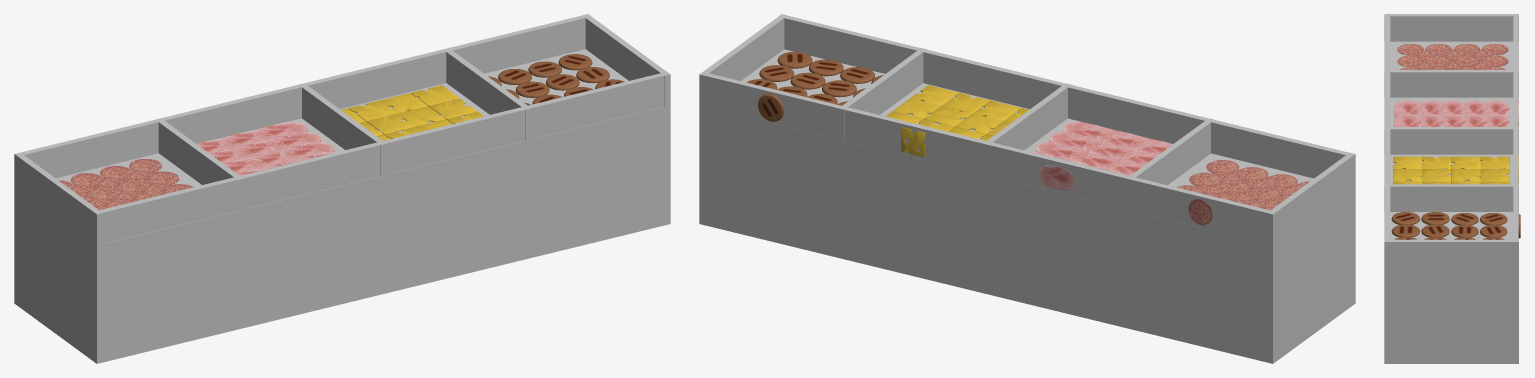
File: bancone1.fbx
3 renders of one model, left to right at view 1: azimuth 30°, elevation 25°; view 2: azimuth 150°, elevation 25°; view 3: azimuth 270°, elevation 25°, orthographic. The views are drawn at different scales.
Visible parts, largest first — view 1: Cube, prosciutto.012|Prosciutto_L_prosciutto.blend|Dupli|, prosciutto.010|Prosciutto_L_prosciutto.blend|Dupli|, prosciutto.006|Prosciutto_L_prosciutto.blend|Dupli|, prosciutto.013|Prosciutto_L_prosciutto.blend|Dupli|, prosciutto.009|Prosciutto_L_prosciutto.blend|Dupli|, formaggio.011|Cube_L_FORMAGGIO.blend|Dupli|, formaggio.009|Cube_L_FORMAGGIO.blend|Dupli|, formaggio.012|Cube_L_FORMAGGIO.blend|Dupli|, formaggio.010|Cube_L_FORMAGGIO.blend|Dupli|, formaggio.014|Cube_L_FORMAGGIO.blend|Dupli|, formaggio.013|Cube_L_FORMAGGIO.blend|Dupli| (+1 smaller); view 2: Cube, prosciutto.015|Prosciutto_L_prosciutto.blend|Dupli|, prosciutto.001|Prosciutto_L_prosciutto.blend|Dupli|, prosciutto.004|Prosciutto_L_prosciutto.blend|Dupli|, prosciutto.007|Prosciutto_L_prosciutto.blend|Dupli|, prosciutto|Prosciutto_L_prosciutto.blend|Dupli|, prosciutto.003|Prosciutto_L_prosciutto.blend|Dupli|, prosciutto.006|Prosciutto_L_prosciutto.blend|Dupli|, carne.016|Circle_L_CARNE.blend|Dupli|, formaggio.004|Cube_L_FORMAGGIO.blend|Dupli|, formaggio.006|Cube_L_FORMAGGIO.blend|Dupli|, formaggio.003|Cube_L_FORMAGGIO.blend|Dupli| (+4 smaller); view 3: Cube, prosciutto.002|Prosciutto_L_prosciutto.blend|Dupli|, prosciutto.008|Prosciutto_L_prosciutto.blend|Dupli|, prosciutto.014|Prosciutto_L_prosciutto.blend|Dupli|, prosciutto.011|Prosciutto_L_prosciutto.blend|Dupli|, prosciutto.005|Prosciutto_L_prosciutto.blend|Dupli|, formaggio.008|Cube_L_FORMAGGIO.blend|Dupli|, formaggio.007|Cube_L_FORMAGGIO.blend|Dupli|, formaggio.015|Cube_L_FORMAGGIO.blend|Dupli|, formaggio|Cube_L_FORMAGGIO.blend|Dupli|, formaggio.006|Cube_L_FORMAGGIO.blend|Dupli|, formaggio.014|Cube_L_FORMAGGIO.blend|Dupli| (+29 smaller).
Boxes of the visible parts, left/top/right/bottom form: Cube: left=14, top=14, right=670, bottom=363; prosciutto.012|Prosciutto_L_prosciutto.blend|Dupli|: left=252, top=122, right=307, bottom=140; prosciutto.010|Prosciutto_L_prosciutto.blend|Dupli|: left=232, top=140, right=286, bottom=159; prosciutto.006|Prosciutto_L_prosciutto.blend|Dupli|: left=279, top=142, right=334, bottom=160; prosciutto.013|Prosciutto_L_prosciutto.blend|Dupli|: left=219, top=130, right=273, bottom=149; prosciutto.009|Prosciutto_L_prosciutto.blend|Dupli|: left=266, top=132, right=320, bottom=150; formaggio.011|Cube_L_FORMAGGIO.blend|Dupli|: left=429, top=98, right=477, bottom=119; formaggio.009|Cube_L_FORMAGGIO.blend|Dupli|: left=366, top=113, right=414, bottom=134; formaggio.012|Cube_L_FORMAGGIO.blend|Dupli|: left=411, top=85, right=459, bottom=106; formaggio.010|Cube_L_FORMAGGIO.blend|Dupli|: left=397, top=106, right=445, bottom=126; formaggio.014|Cube_L_FORMAGGIO.blend|Dupli|: left=348, top=100, right=396, bottom=121; formaggio.013|Cube_L_FORMAGGIO.blend|Dupli|: left=380, top=93, right=427, bottom=113; Cube: left=699, top=14, right=1355, bottom=363; prosciutto.015|Prosciutto_L_prosciutto.blend|Dupli|: left=1039, top=165, right=1075, bottom=190; prosciutto.001|Prosciutto_L_prosciutto.blend|Dupli|: left=1096, top=130, right=1150, bottom=149; prosciutto.004|Prosciutto_L_prosciutto.blend|Dupli|: left=1083, top=140, right=1137, bottom=159; prosciutto.007|Prosciutto_L_prosciutto.blend|Dupli|: left=1070, top=150, right=1123, bottom=168; prosciutto|Prosciutto_L_prosciutto.blend|Dupli|: left=1063, top=122, right=1117, bottom=140; prosciutto.003|Prosciutto_L_prosciutto.blend|Dupli|: left=1049, top=131, right=1103, bottom=150; prosciutto.006|Prosciutto_L_prosciutto.blend|Dupli|: left=1036, top=141, right=1090, bottom=160; carne.016|Circle_L_CARNE.blend|Dupli|: left=758, top=94, right=783, bottom=121; formaggio.004|Cube_L_FORMAGGIO.blend|Dupli|: left=892, top=98, right=940, bottom=119; formaggio.006|Cube_L_FORMAGGIO.blend|Dupli|: left=955, top=113, right=1003, bottom=134; formaggio.003|Cube_L_FORMAGGIO.blend|Dupli|: left=911, top=85, right=958, bottom=105; Cube: left=1384, top=14, right=1518, bottom=363; prosciutto.002|Prosciutto_L_prosciutto.blend|Dupli|: left=1394, top=100, right=1421, bottom=120; prosciutto.008|Prosciutto_L_prosciutto.blend|Dupli|: left=1438, top=100, right=1465, bottom=120; prosciutto.014|Prosciutto_L_prosciutto.blend|Dupli|: left=1482, top=100, right=1509, bottom=120; prosciutto.011|Prosciutto_L_prosciutto.blend|Dupli|: left=1460, top=100, right=1487, bottom=120; prosciutto.005|Prosciutto_L_prosciutto.blend|Dupli|: left=1416, top=100, right=1443, bottom=120; formaggio.008|Cube_L_FORMAGGIO.blend|Dupli|: left=1451, top=156, right=1480, bottom=169; formaggio.007|Cube_L_FORMAGGIO.blend|Dupli|: left=1422, top=156, right=1451, bottom=169; formaggio.015|Cube_L_FORMAGGIO.blend|Dupli|: left=1480, top=156, right=1509, bottom=169; formaggio|Cube_L_FORMAGGIO.blend|Dupli|: left=1393, top=156, right=1422, bottom=169; formaggio.006|Cube_L_FORMAGGIO.blend|Dupli|: left=1422, top=169, right=1451, bottom=182; formaggio.014|Cube_L_FORMAGGIO.blend|Dupli|: left=1480, top=169, right=1509, bottom=182.
Bounding box in the file's own units: 802 × 200 × 203.
